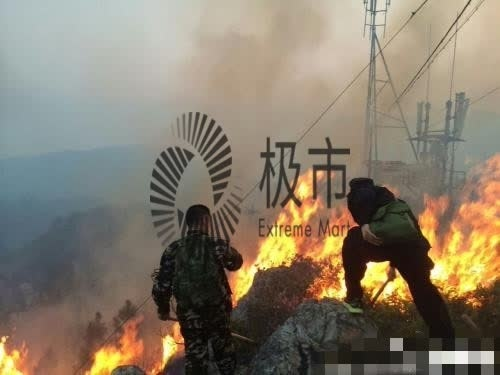fire: (223, 165, 500, 314), (79, 314, 189, 375)
